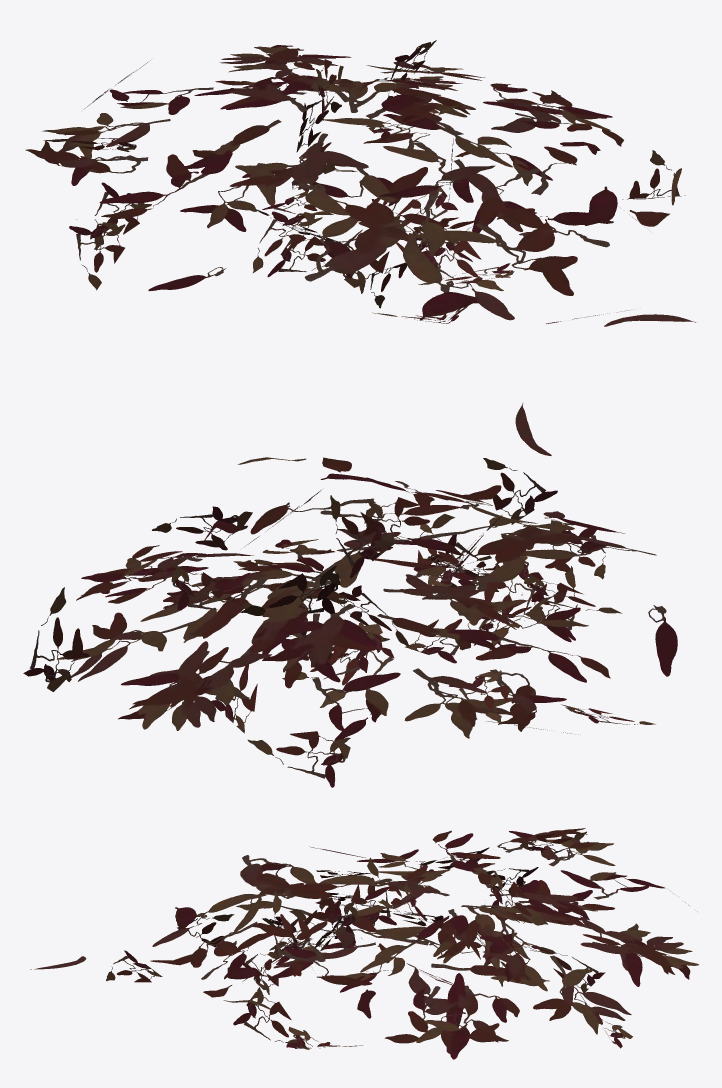
3 renders of one model, top to bottom at view 1: azimuth 30°, elevation 25°; view 2: azimuth 150°, elevation 25°; view 3: azimuth 270°, elevation 25°, orthographic. The views are drawn at different scales.
Parts seen in each view (by area): view 1: SM_WT_Leaf_Piles_02_LOD0; view 2: SM_WT_Leaf_Piles_02_LOD0; view 3: SM_WT_Leaf_Piles_02_LOD0.
Part boxes in pixels (x1,y1,x2,y2): SM_WT_Leaf_Piles_02_LOD0: (25,40,695,326); SM_WT_Leaf_Piles_02_LOD0: (23,403,677,787); SM_WT_Leaf_Piles_02_LOD0: (30,828,698,1059).
Size of the model in its own units: 1.13 by 0.3177 by 1.44.
Materials: 1 (1 with a texture image).
